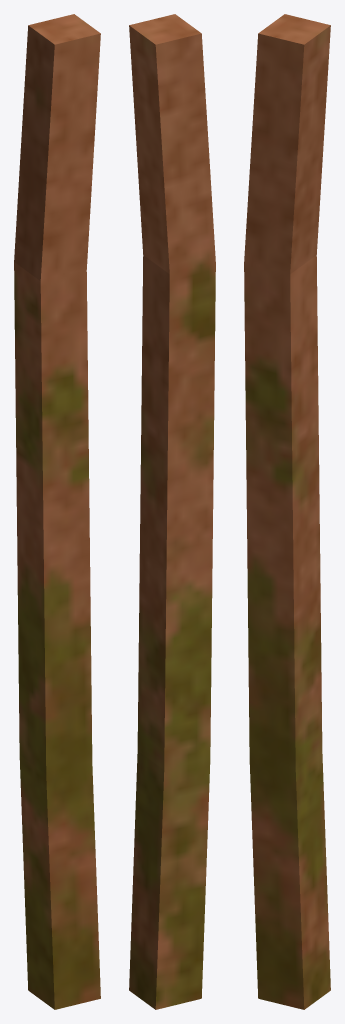
Rendered from Wooden Pillar1_3.fbx.
3 views of the same model, side by side, from view 1: azimuth 30°, elevation 25°; view 2: azimuth 210°, elevation 25°; view 3: azimuth 330°, elevation 25° (orthographic).
Visible parts, largest first — view 1: Wooden Pillar1_3; view 2: Wooden Pillar1_3; view 3: Wooden Pillar1_3.
Part boxes in pixels (x1=…): Wooden Pillar1_3: x1=14, y1=14, x2=100, y2=1009; Wooden Pillar1_3: x1=129, y1=14, x2=215, y2=1009; Wooden Pillar1_3: x1=244, y1=14, x2=330, y2=1009.
Size of the model in its own units: 0.1306 by 2 by 0.1.
